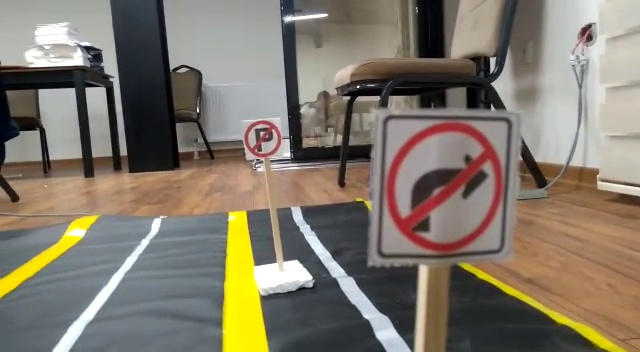park_yapilmaz: (241, 118, 283, 160)
saga_donulmez: (375, 113, 512, 254)
